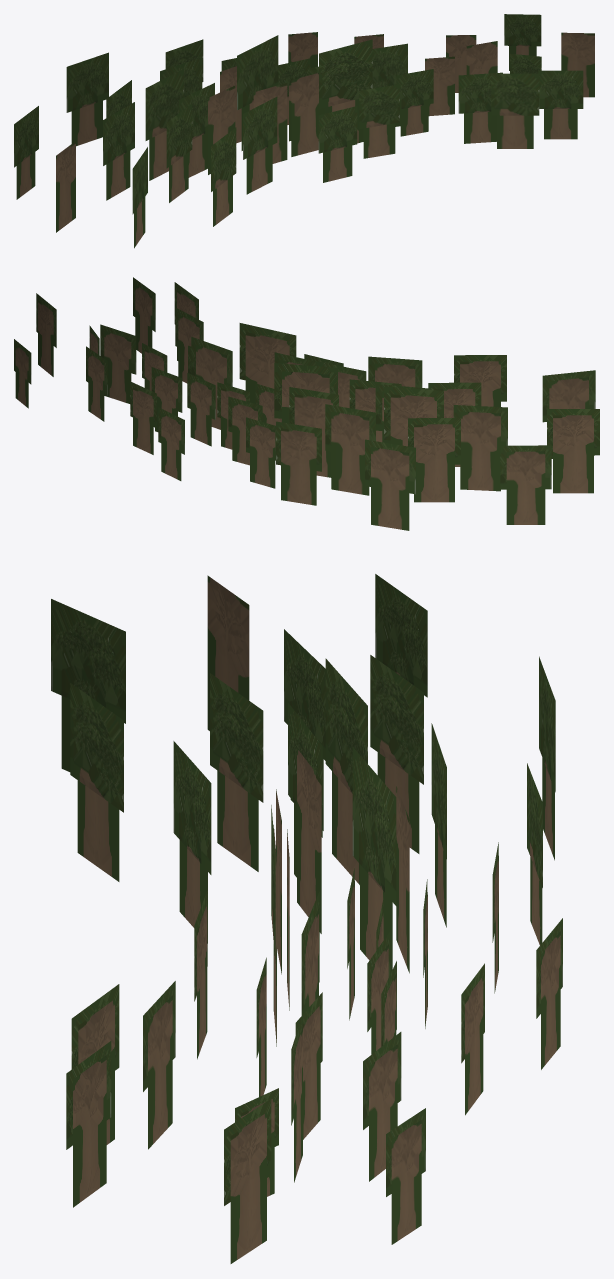
Rendered from SM_Env_Background_Trees_01.fbx.
3 renders of one model, top to bottom at view 1: azimuth 30°, elevation 25°; view 2: azimuth 150°, elevation 25°; view 3: azimuth 270°, elevation 25°, orthographic. The views are drawn at different scales.
Visible parts, largest first — view 1: SM_Env_Background_Trees_01; view 2: SM_Env_Background_Trees_01; view 3: SM_Env_Background_Trees_01.
Part boxes in pixels (x1,y1,x2,y2): SM_Env_Background_Trees_01: [14, 14, 594, 248]; SM_Env_Background_Trees_01: [14, 277, 599, 530]; SM_Env_Background_Trees_01: [51, 574, 562, 1263].
Bounding box in the file's own units: 31167 × 5831 × 12510.
